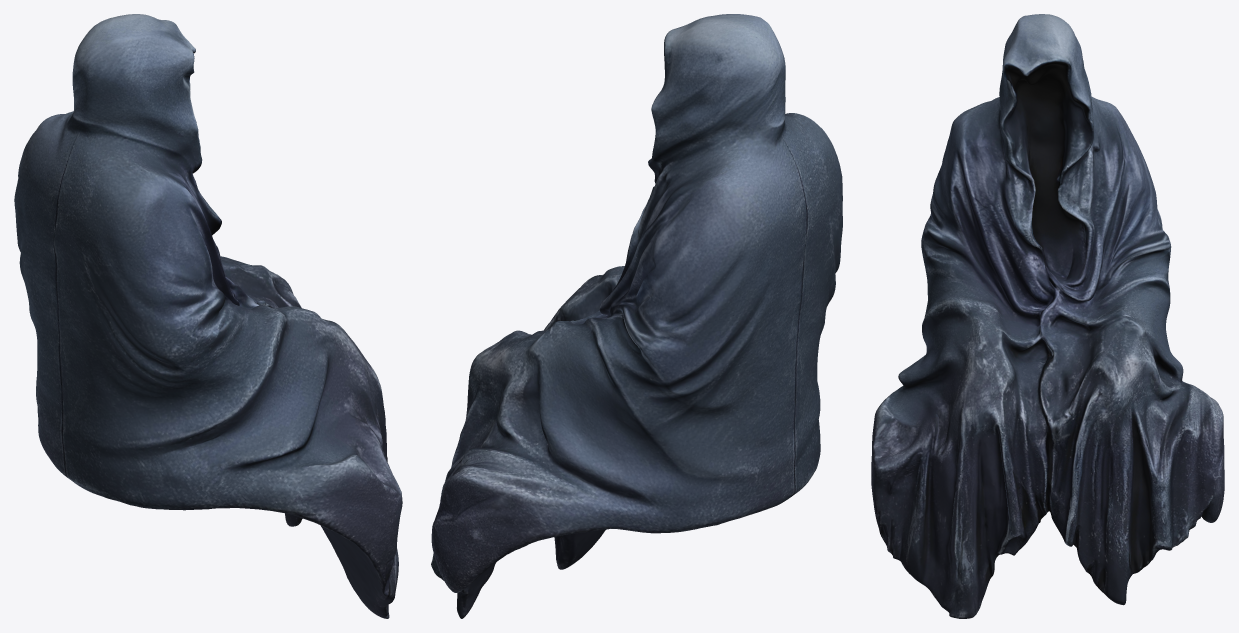
File: fantasma.fbx
3 renders of one model, left to right at view 1: azimuth 30°, elevation 25°; view 2: azimuth 150°, elevation 25°; view 3: azimuth 270°, elevation 25°, orthographic. The views are drawn at different scales.
Visible parts, largest first — view 1: tripo_node_4289aa9f; view 2: tripo_node_4289aa9f; view 3: tripo_node_4289aa9f.
Boxes of the visible parts, x1,y1,x2,y2 form: tripo_node_4289aa9f: (14, 14, 402, 618); tripo_node_4289aa9f: (431, 14, 842, 618); tripo_node_4289aa9f: (871, 14, 1224, 618).
Size of the model in its own units: 0.4989 by 1 by 0.6251.
1 material, 1 textured.
